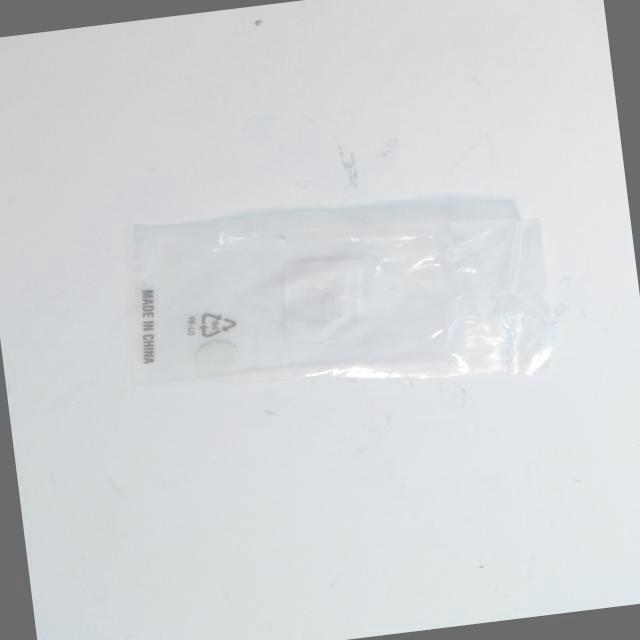plastic: (85, 172, 586, 456)
